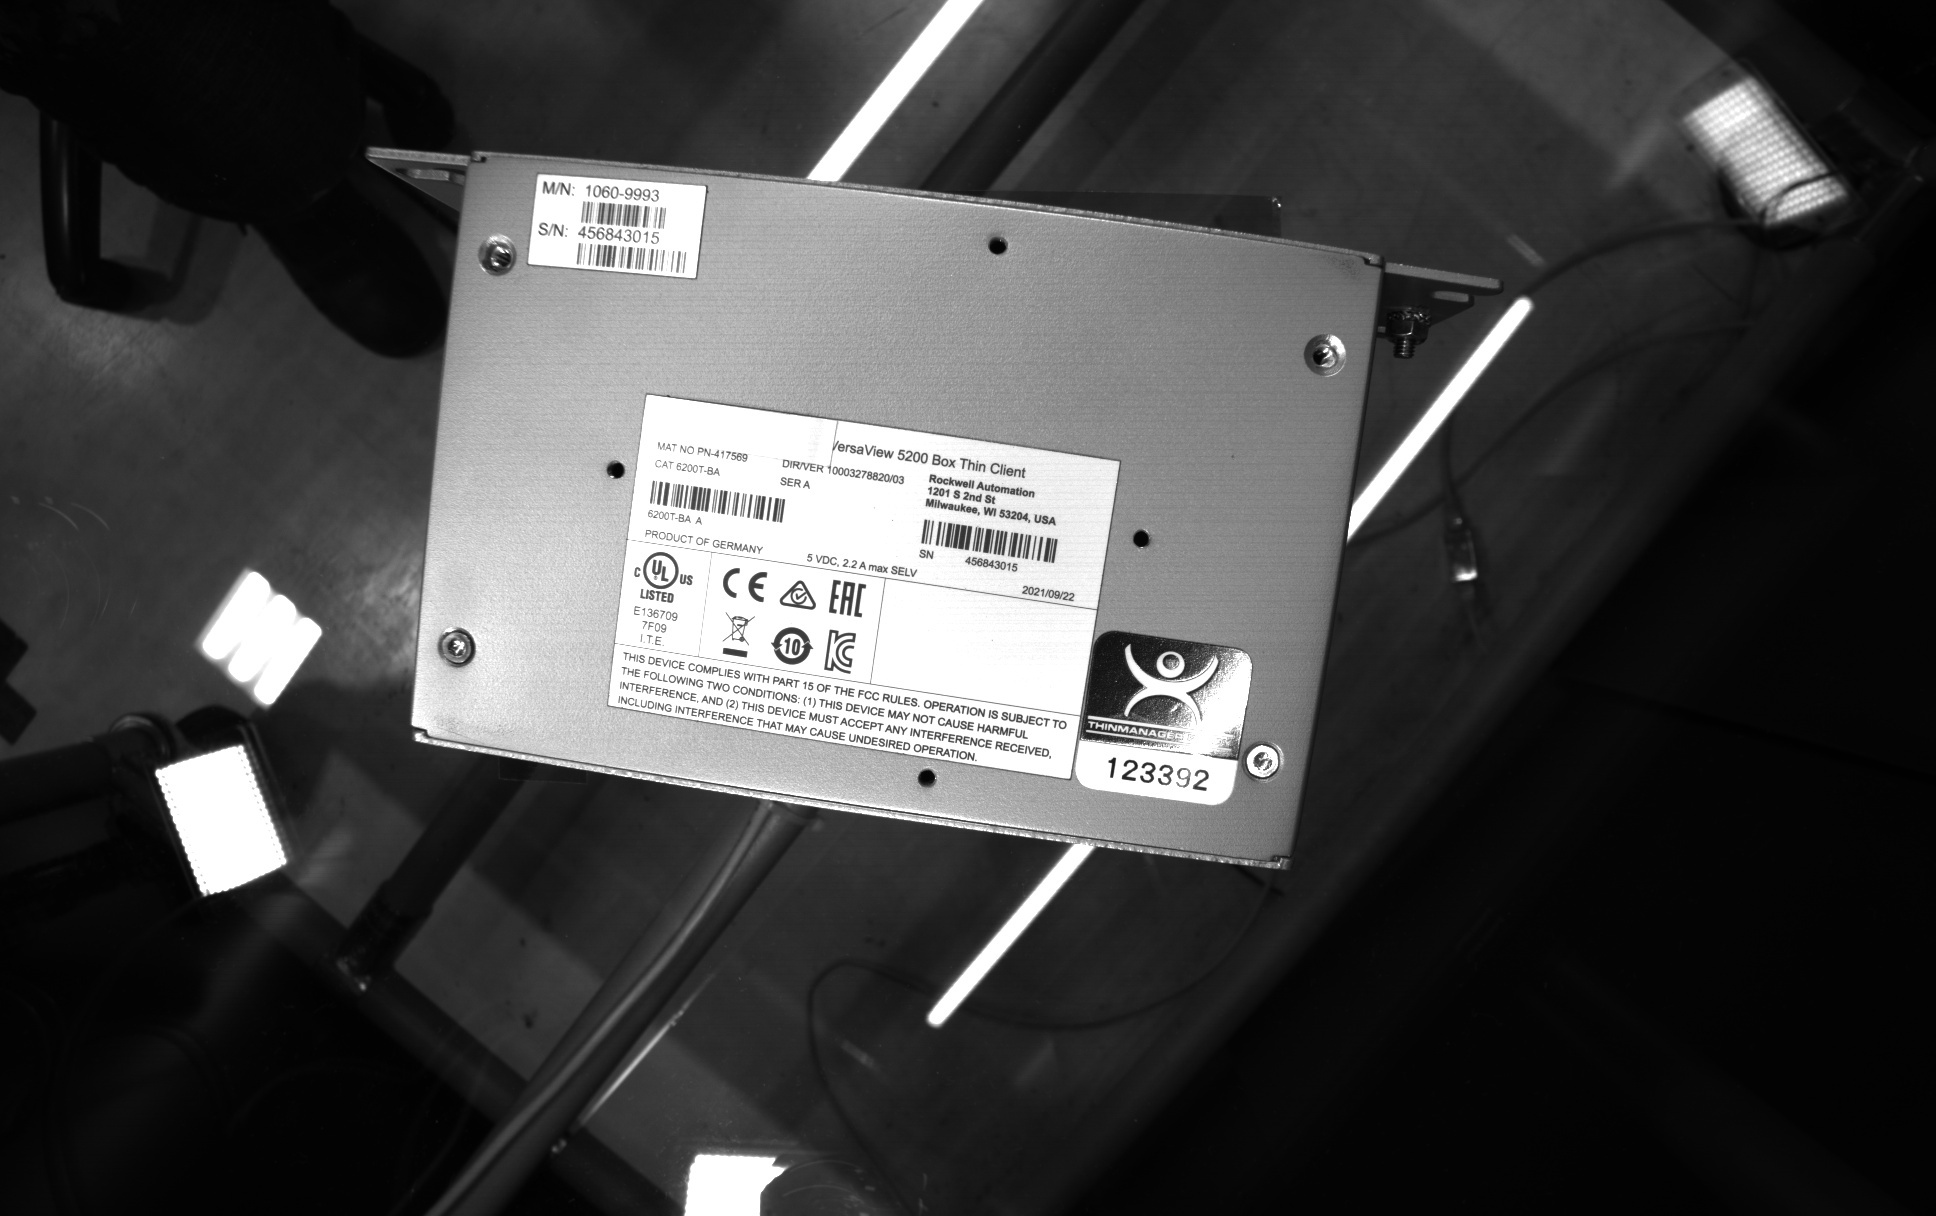Barcode: (913, 511, 1066, 566), (646, 475, 791, 527), (567, 240, 693, 275), (577, 198, 675, 237)
CamTop: (401, 139, 1394, 883)
Label_Seriennummer: (597, 380, 1131, 796)
Loch: (1296, 324, 1353, 378), (478, 228, 527, 280)
Loch_Montage: (590, 448, 630, 495), (901, 759, 946, 799), (1126, 513, 1166, 555), (975, 224, 1016, 263)
Schraube: (431, 621, 482, 677), (1243, 733, 1293, 787)
